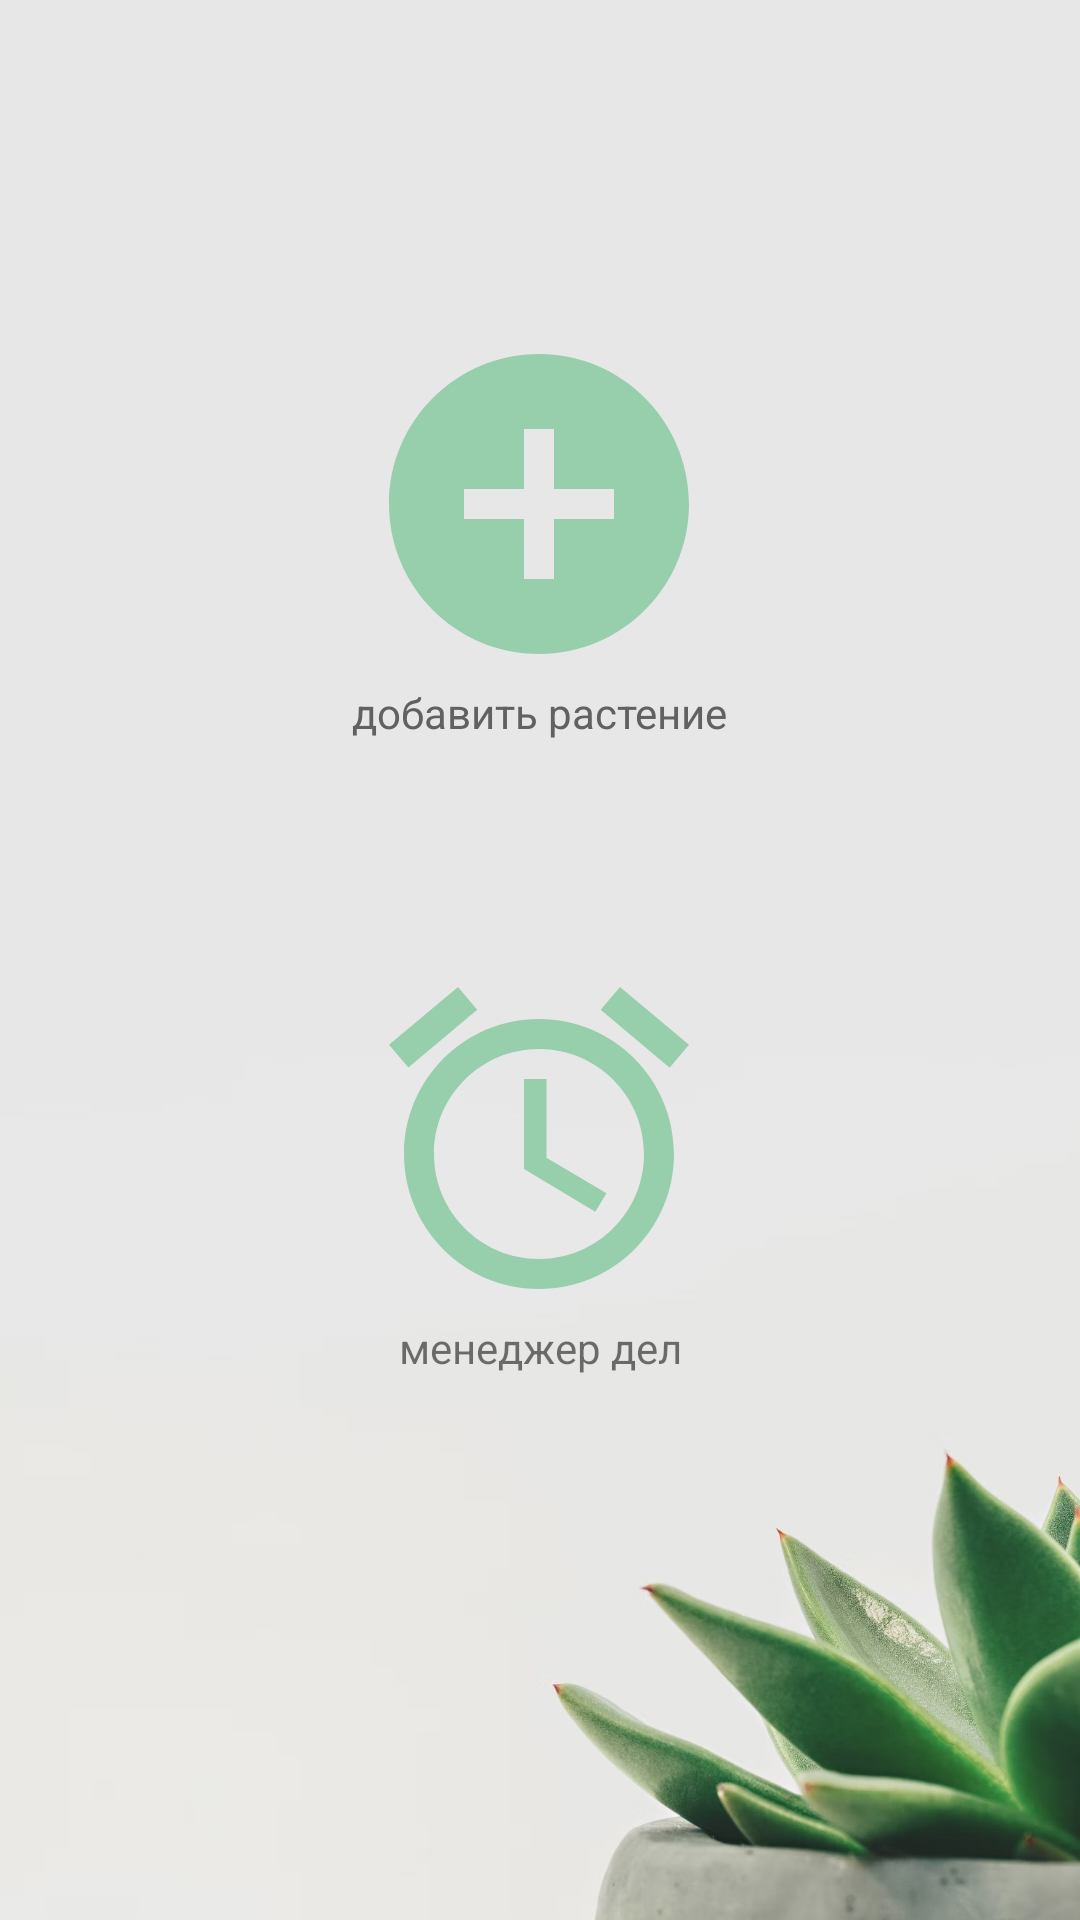

Where to tap for icons on this 1080x1920 app screen, as [x,y]:
access alarm: [539,1138]
add circle: [539,504]
